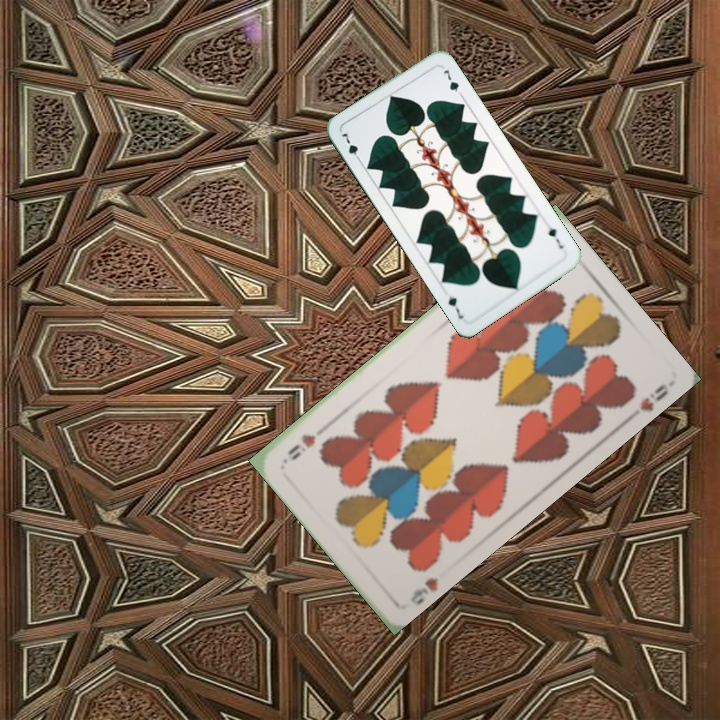G7: (337, 129, 364, 165), (543, 219, 566, 252)
H9: (406, 573, 441, 607)
